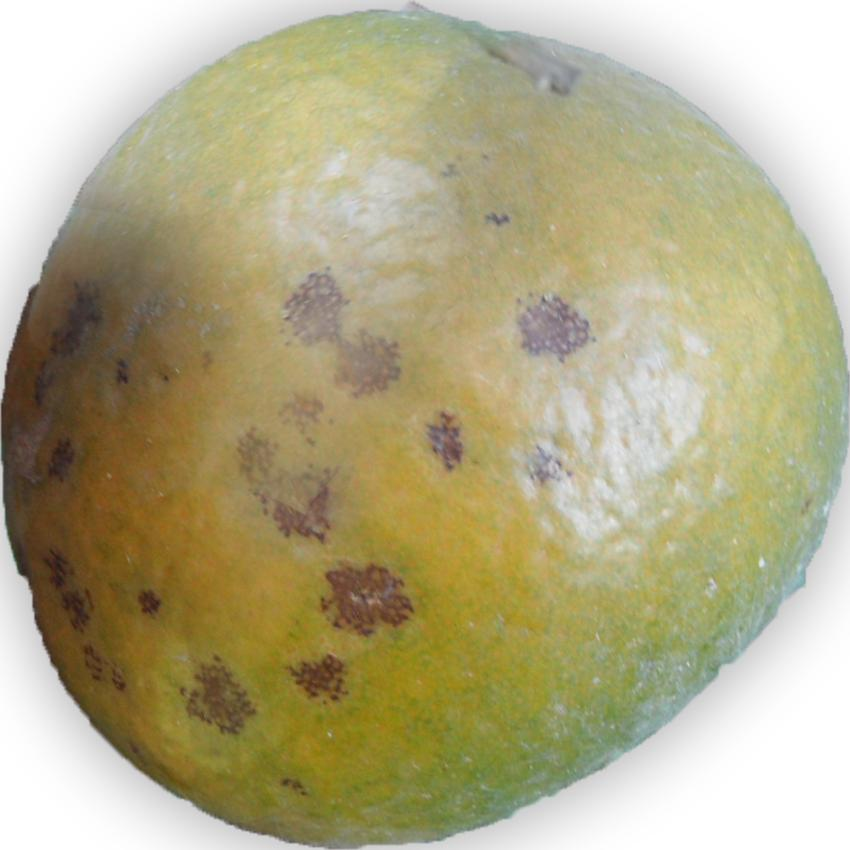Mal estado: (0, 0, 849, 839)
